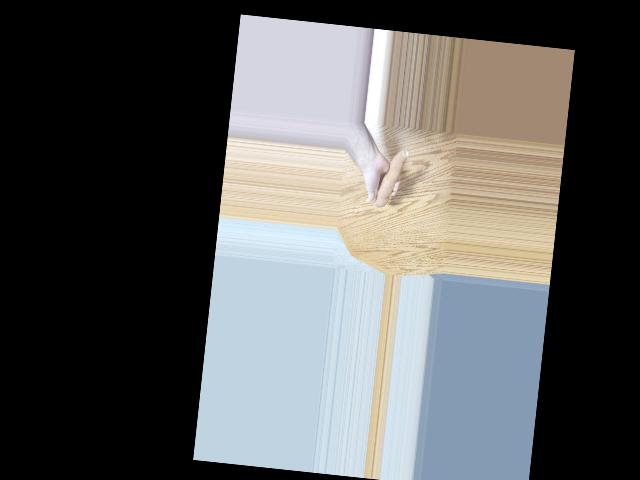sweet_potato: (373, 145, 409, 210)
